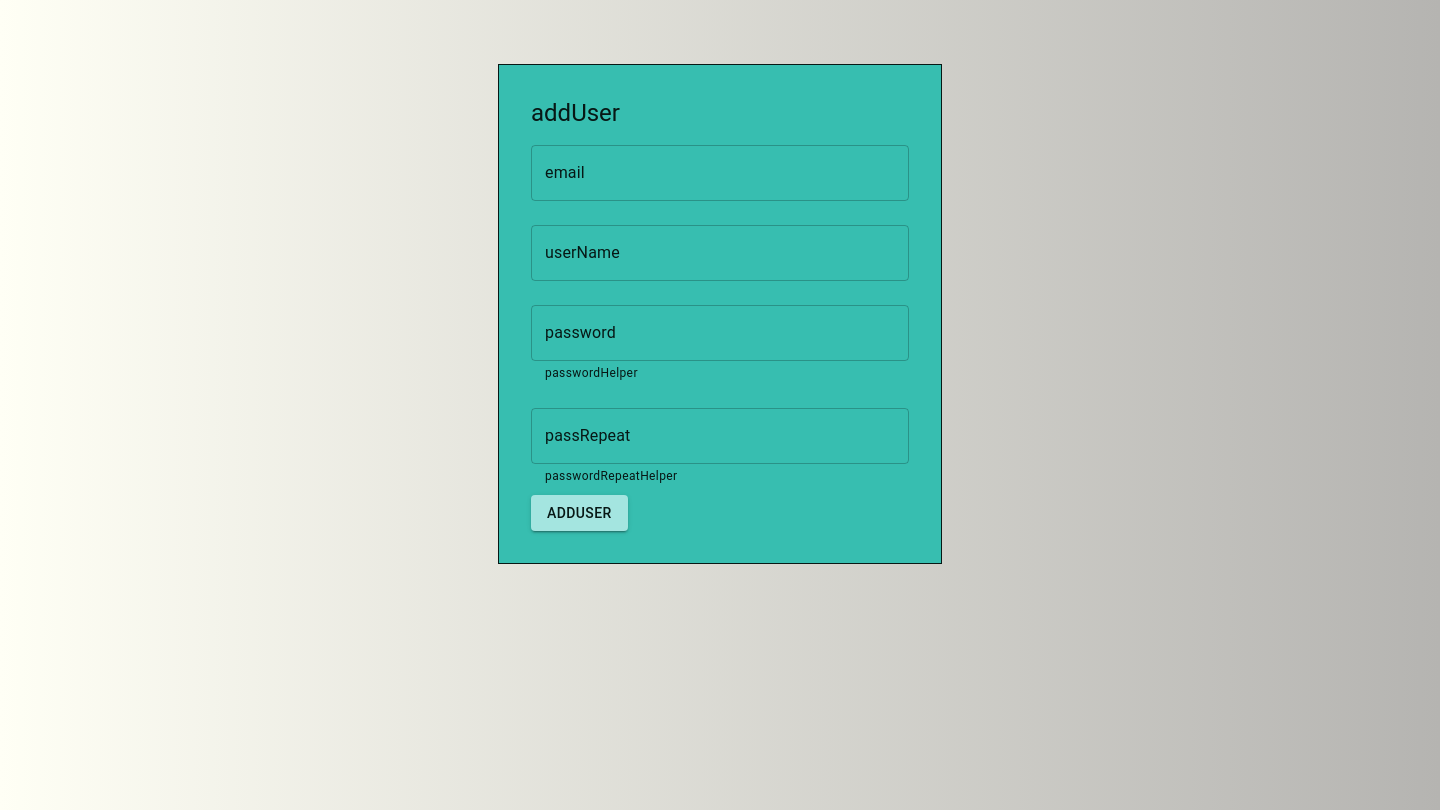
it: AddUser component › should handle error when adding user
This screenshot has width=1440, height=810.
Note: Simulate user input
In the field labelled "email": (720, 173) [531,145,909,201], type "test@email.com"
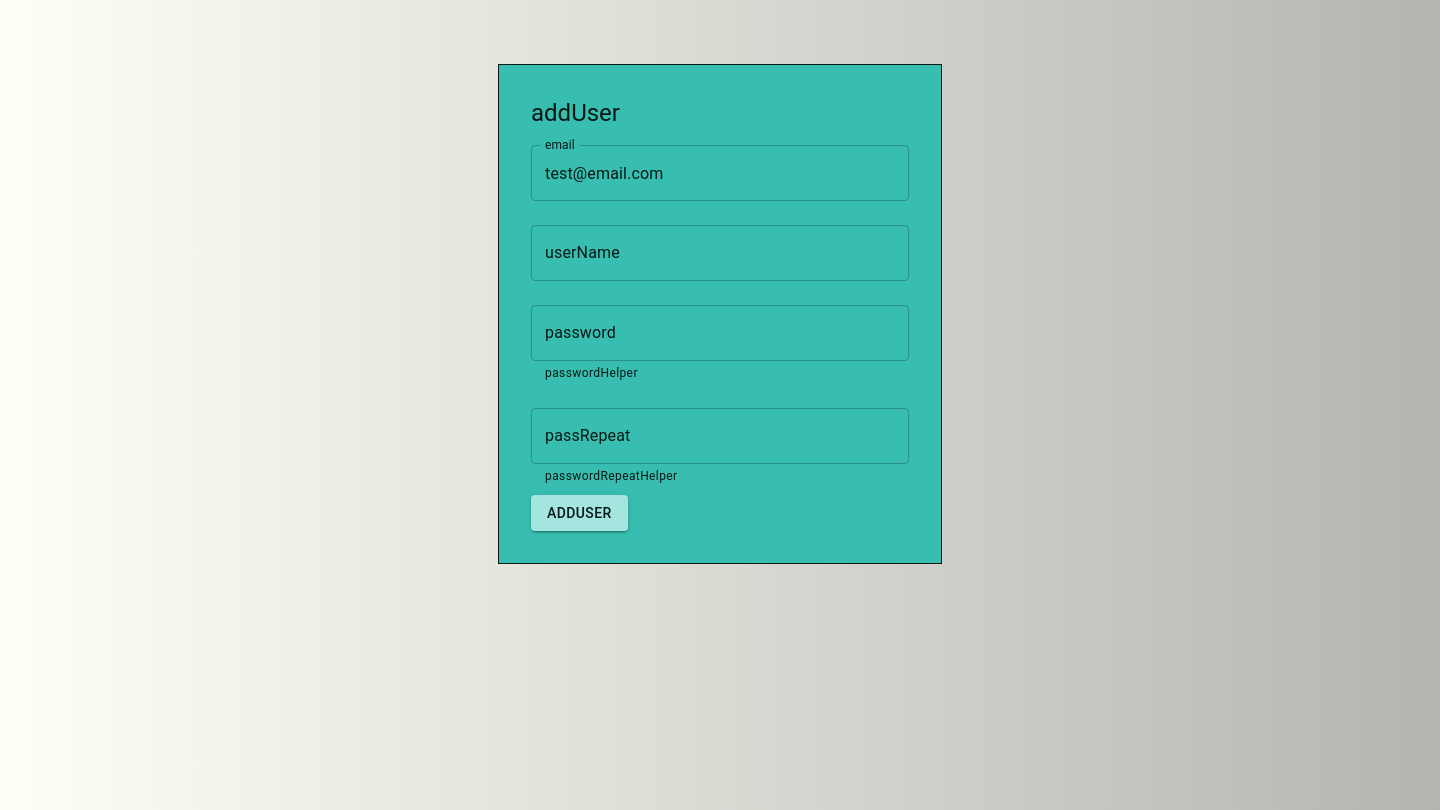
In the field labelled "userName": (720, 253) [531,225,909,281], type "testUser"
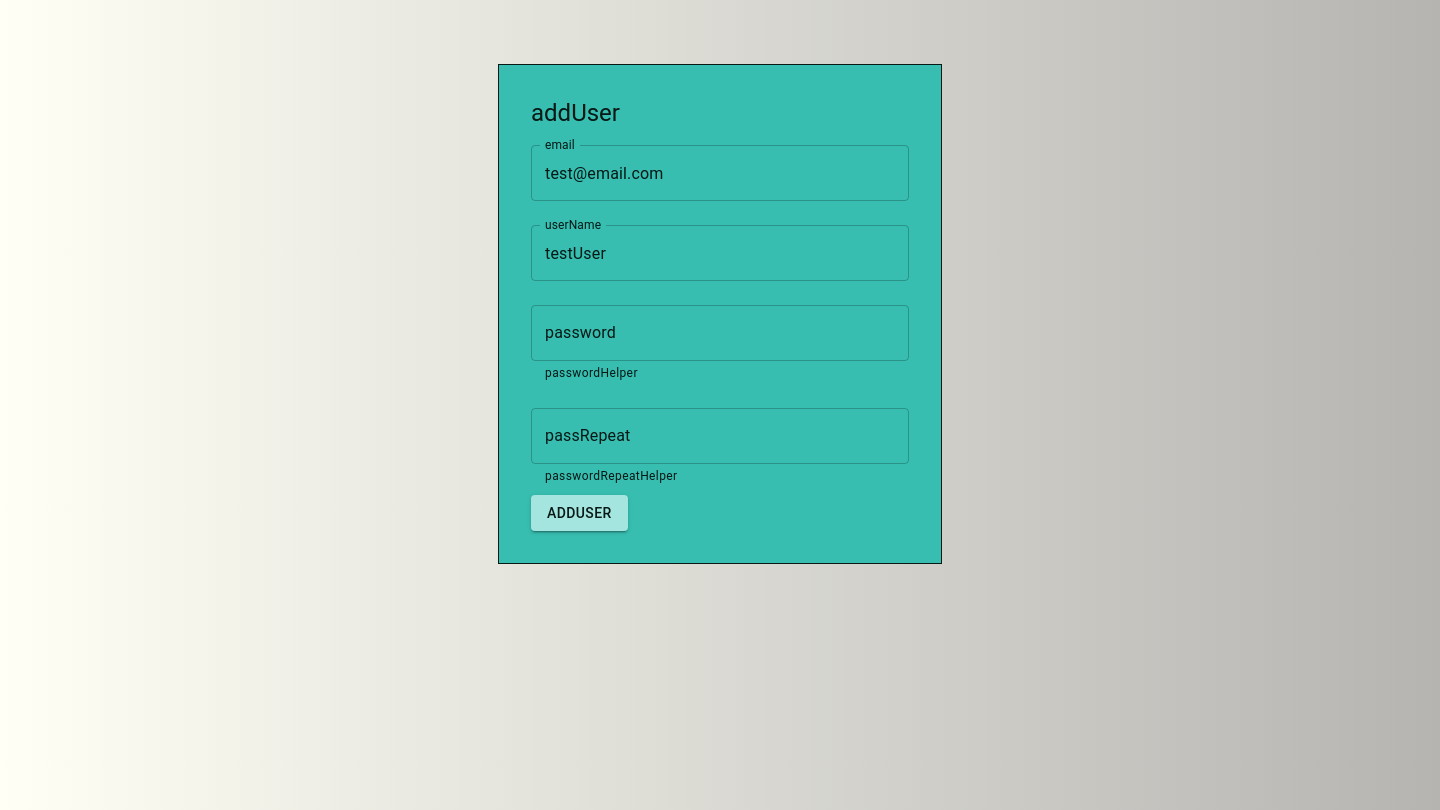
In the password field labelled "password": (720, 333) [531,305,909,361], type "testPassword"
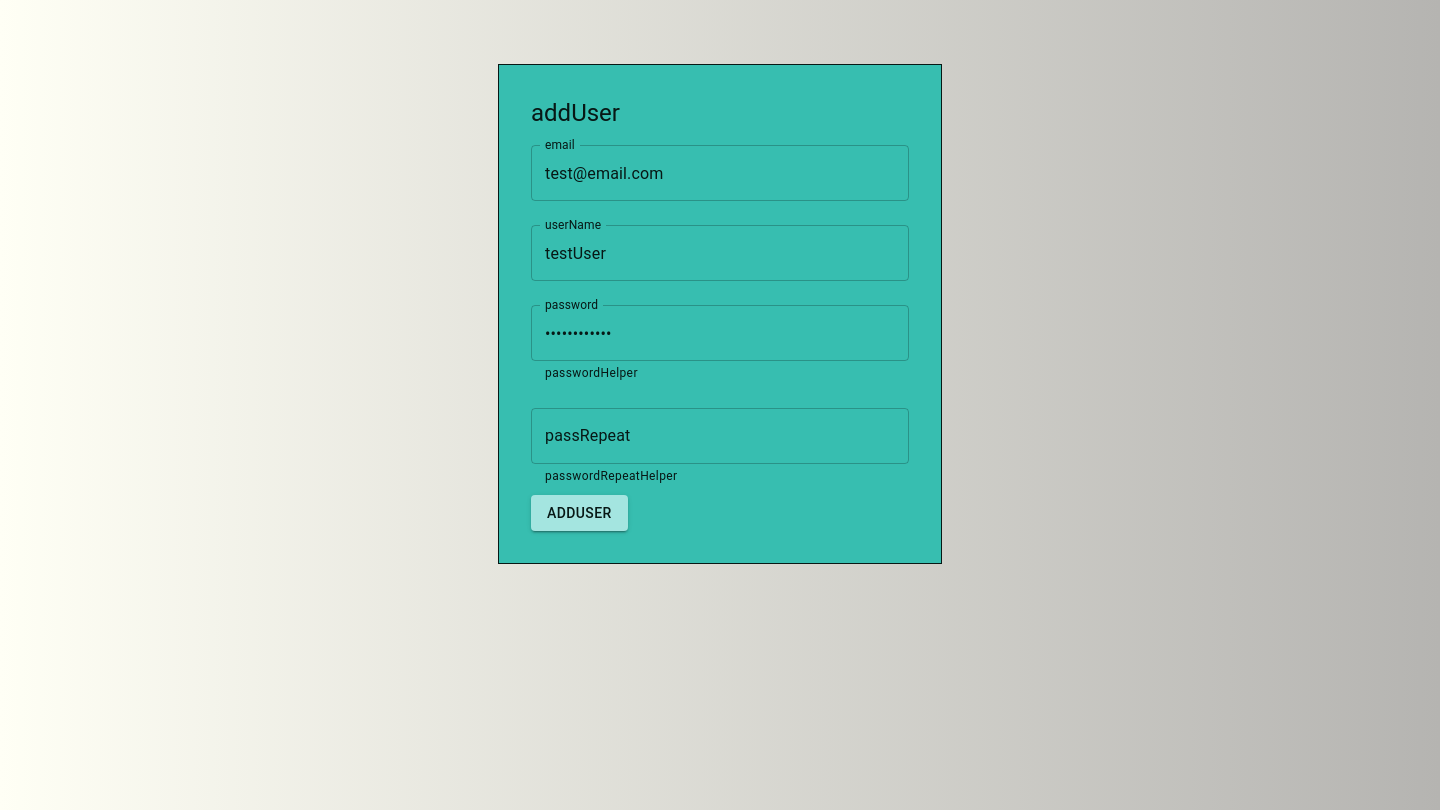
In the password field labelled "passRepeat": (720, 436) [531,408,909,464], type "test1Password"
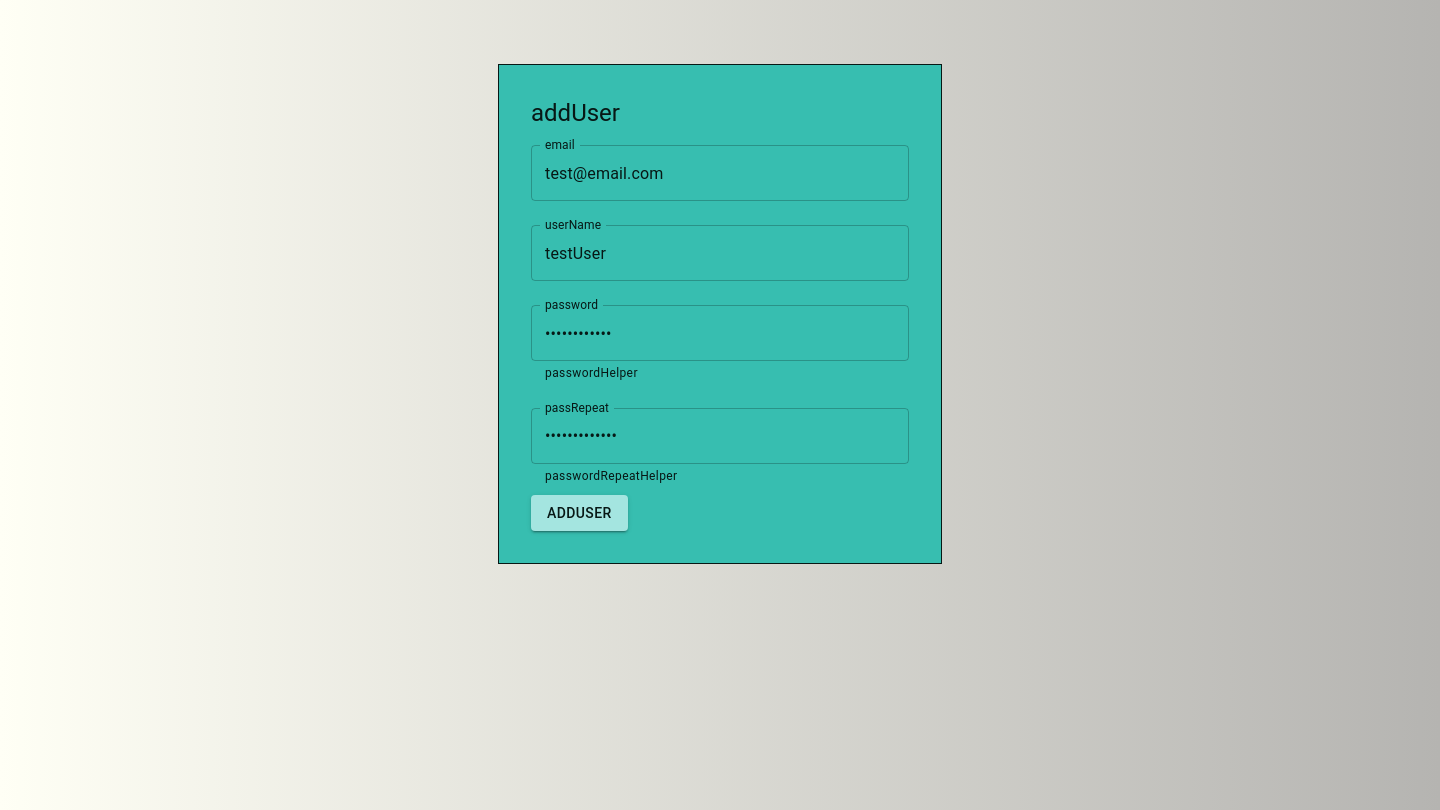
Note: Trigger the add user button click
Click the button with id "addRegister": (579, 513) [531,495,628,531]
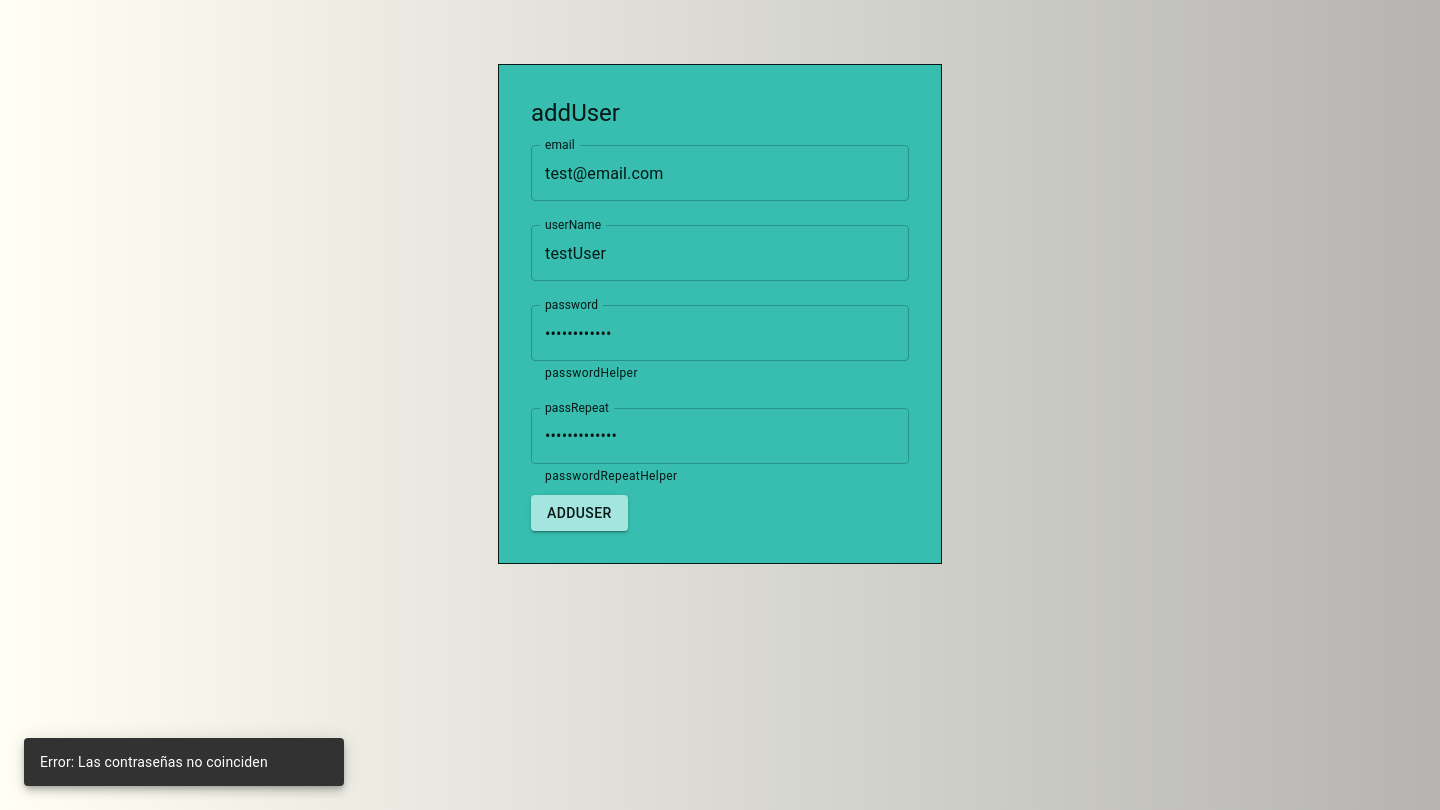
expect the element with test id "errorMessage" is shown: met, box [24,738,344,786]
